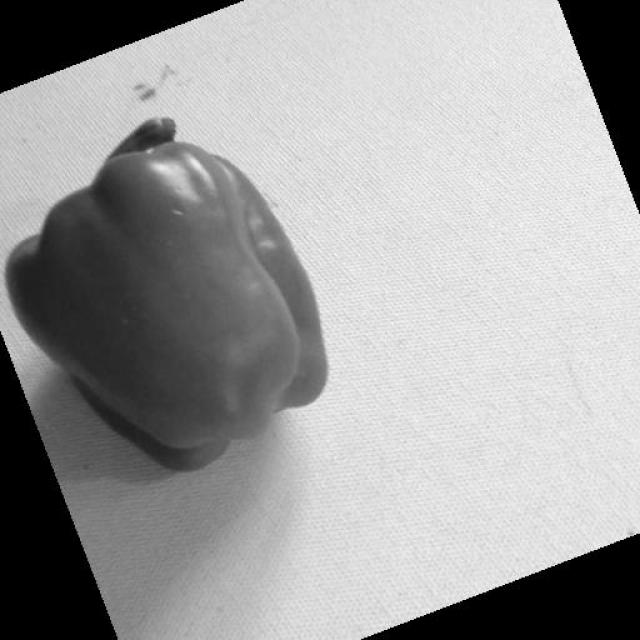Fresh_Capsicum: (12, 136, 316, 449)
